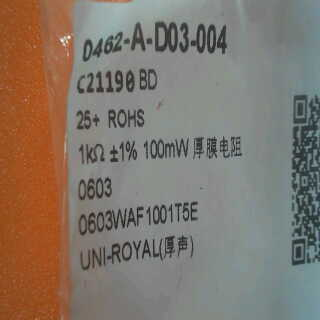1kR: (71, 139, 111, 170)
